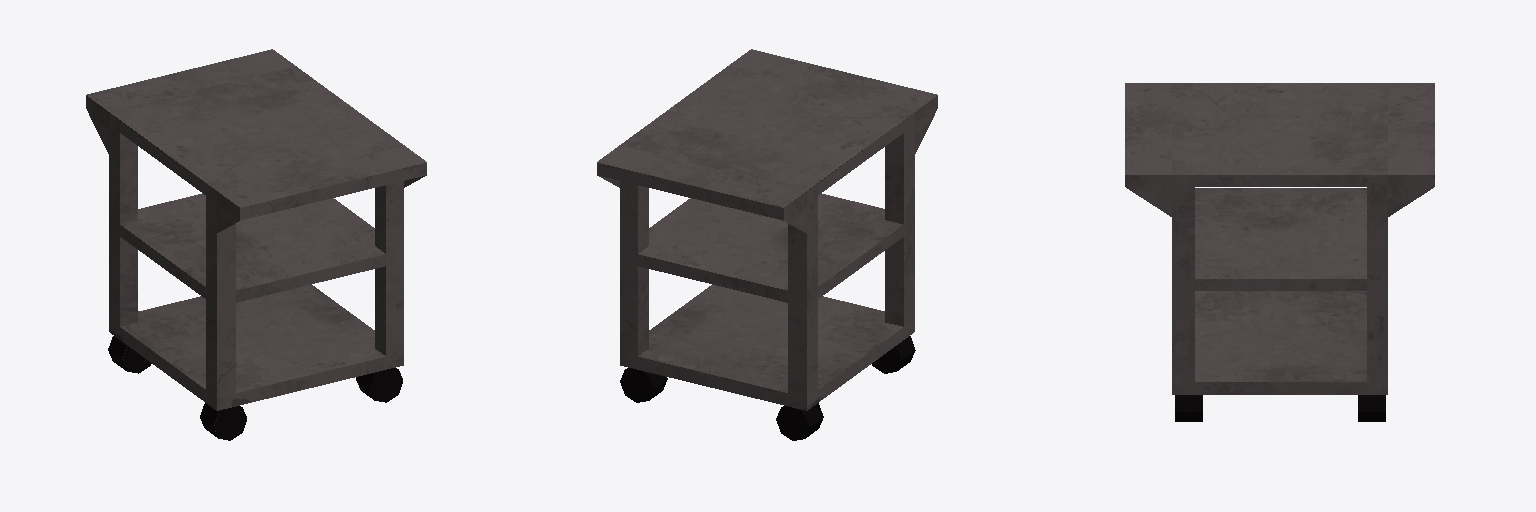
3 renders of one model, left to right at view 1: azimuth 30°, elevation 25°; view 2: azimuth 150°, elevation 25°; view 3: azimuth 270°, elevation 25°, orthographic.
Visible parts, largest first — view 1: cart; view 2: cart; view 3: cart.
Boxes of the visible parts, x1=… form: cart: x1=86, y1=49, x2=426, y2=440; cart: x1=597, y1=49, x2=937, y2=440; cart: x1=1125, y1=83, x2=1434, y2=421.
Size of the model in its own units: 0.8252 by 1.06 by 1.16.
Materials: 1 (1 with a texture image).